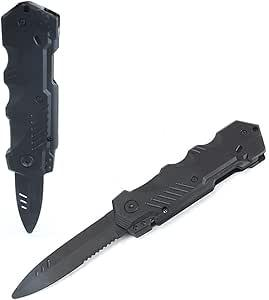Knife: (11, 119, 267, 300), (2, 1, 63, 235)
